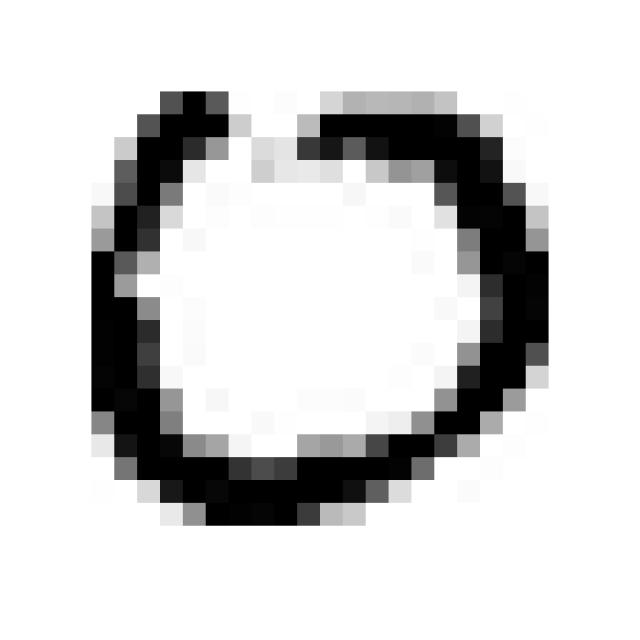5 -five-: (69, 62, 562, 540)
